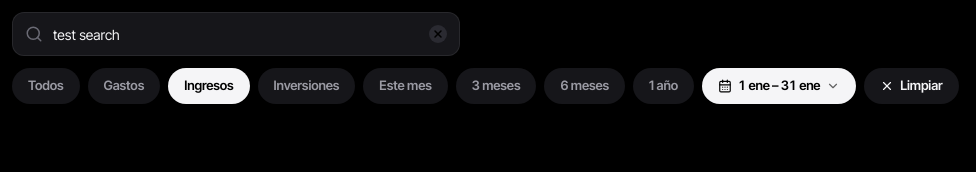
Test: SearchFilter › resets every filter when Limpiar is clicked
Click the button "Limpiar" at (911, 86), box [864,68,959,104]
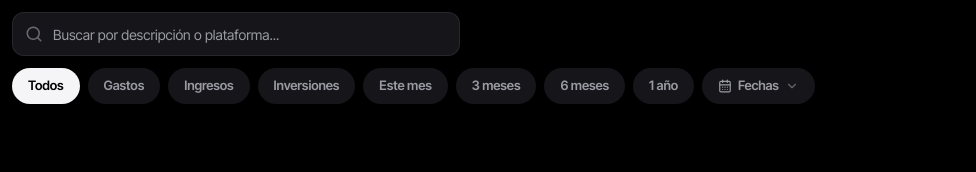
Check: the search field with placeholder "Buscar por descripción o plataforma..." is empty, box [12,12,460,56]
